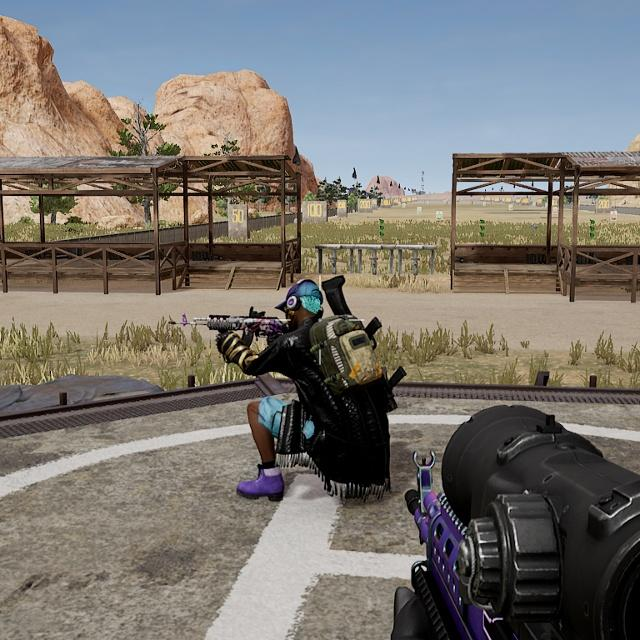head: (273, 274, 330, 335)
people: (207, 273, 400, 512)
